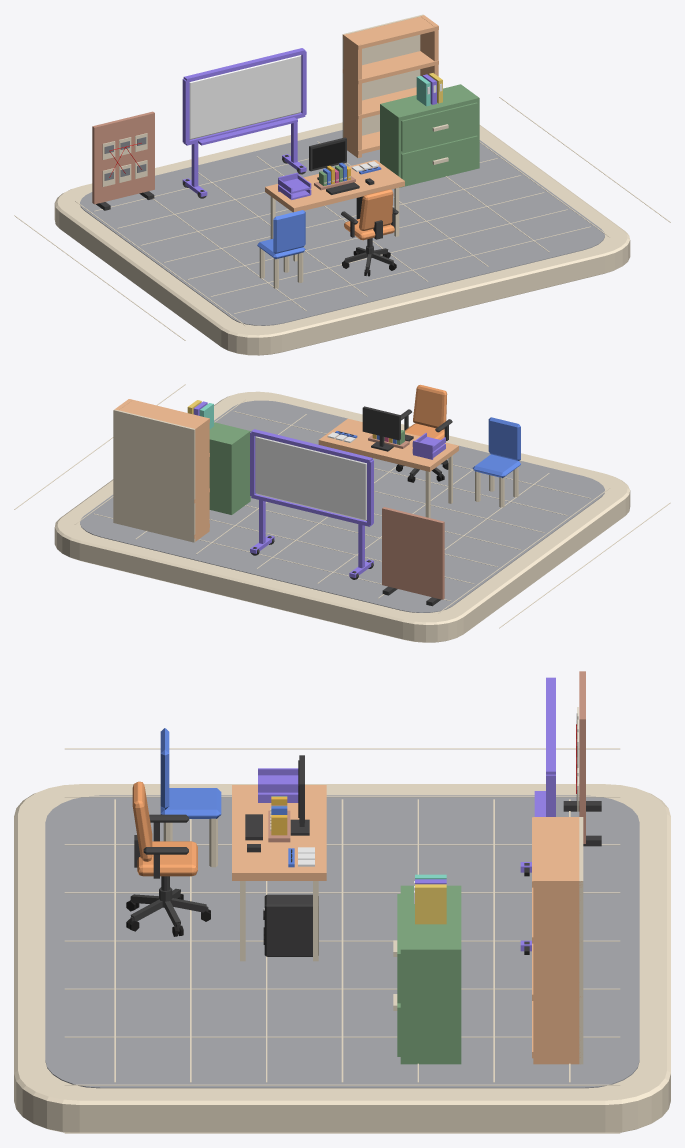
Rendered from room.fbx.
3 views of the same model, one above another, from view 1: azimuth 30°, elevation 25°; view 2: azimuth 150°, elevation 25°; view 3: azimuth 270°, elevation 25° (orthographic). The views are drawn at different scales.
Parts seen in each view (by area): view 1: COM-02 Floor Surface, COM-01 Rounded Base Direct, Cabinet, Writing surface, Panel, Top, Back, COM-04_Chair_blender_direct, Side, Shelf.003, Shelf.002, Backrest (+5 smaller); view 2: COM-02 Floor Surface, COM-01 Rounded Base Direct, Back, Writing surface, Panel, Cabinet, Top, COM-04_Chair_blender_direct, Side, Backrest, Frame, Shelf.003 (+4 smaller); view 3: COM-02 Floor Surface, COM-01 Rounded Base Direct, Cabinet, Side.001, Top, COM-04_Chair_blender_direct, Shelf.003, Tower, Seat, File.002, Back, Grout X.007 (+12 smaller).
Part boxes in pixels (x1=…): COM-02 Floor Surface: x1=80, y1=130, x2=604, y2=325; COM-01 Rounded Base Direct: x1=54, y1=122, x2=630, y2=355; Cabinet: x1=380, y1=84, x2=479, y2=187; Writing surface: x1=189, y1=55, x2=301, y2=139; Panel: x1=92, y1=111, x2=154, y2=204; Top: x1=265, y1=160, x2=404, y2=261; Back: x1=342, y1=14, x2=423, y2=137; COM-04_Chair_blender_direct: x1=341, y1=189, x2=398, y2=276; Side: x1=343, y1=33, x2=361, y2=157; Shelf.003: x1=342, y1=16, x2=438, y2=49; Shelf.002: x1=342, y1=51, x2=438, y2=84; Backrest: x1=273, y1=210, x2=305, y2=253; COM-02 Floor Surface: x1=80, y1=400, x2=604, y2=612; COM-01 Rounded Base Direct: x1=54, y1=391, x2=630, y2=642; Back: x1=113, y1=409, x2=195, y2=542; Writing surface: x1=255, y1=436, x2=366, y2=520; Panel: x1=382, y1=507, x2=444, y2=599; Cabinet: x1=209, y1=422, x2=250, y2=514; Top: x1=318, y1=418, x2=458, y2=517; COM-04_Chair_blender_direct: x1=396, y1=384, x2=452, y2=482; Side: x1=192, y1=417, x2=209, y2=541; Backrest: x1=488, y1=417, x2=520, y2=460; Frame: x1=362, y1=406, x2=400, y2=451; Shelf.003: x1=119, y1=399, x2=209, y2=432; COM-02 Floor Surface: x1=45, y1=795, x2=639, y2=1088; COM-01 Rounded Base Direct: x1=14, y1=784, x2=670, y2=1132; Cabinet: x1=393, y1=885, x2=461, y2=1064; Side.001: x1=533, y1=878, x2=579, y2=1064; Top: x1=232, y1=785, x2=326, y2=961; COM-04_Chair_blender_direct: x1=126, y1=781, x2=210, y2=936; Shelf.003: x1=532, y1=817, x2=582, y2=887; Tower: x1=264, y1=894, x2=318, y2=956; Seat: x1=160, y1=788, x2=221, y2=818; File.002: x1=415, y1=884, x2=446, y2=924; Back: x1=579, y1=817, x2=583, y2=1064; Grout X.007: x1=64, y1=1084, x2=620, y2=1085.
Size of the model in its own units: 721 by 196 by 520.
